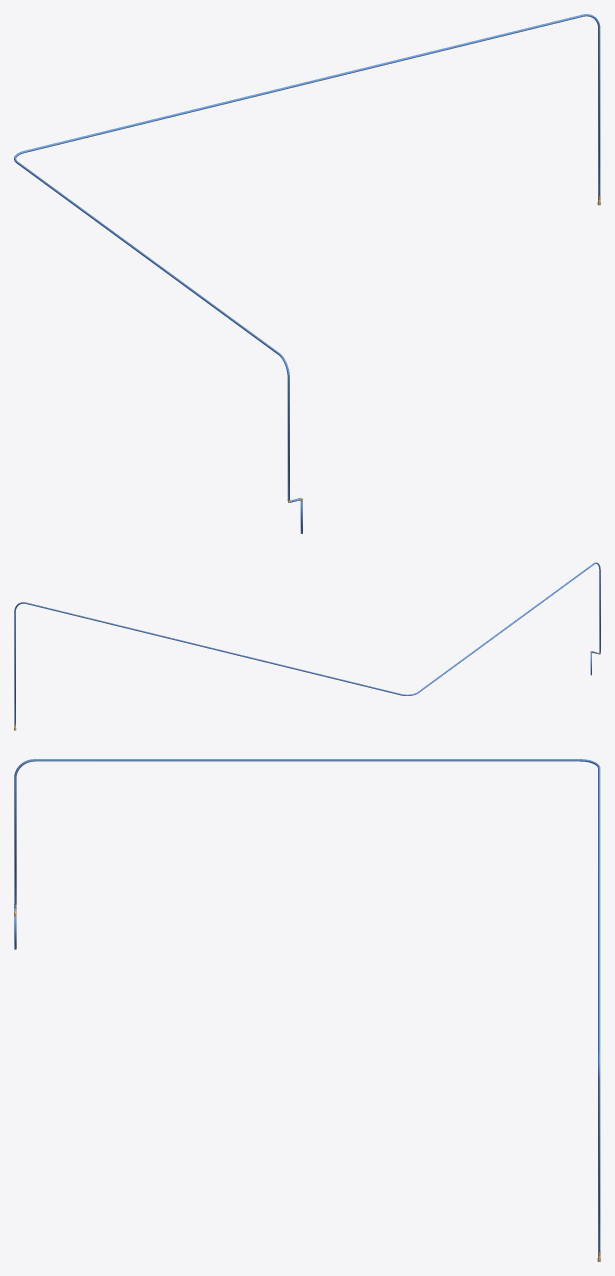
The model's file is pipes_supply__water-well_and_softener-yes_and_flowsmart-no_and_plumbing-pex.glb.
The picture shows the model from 3 angles, top to bottom: view 1: azimuth 30°, elevation 25°; view 2: azimuth 150°, elevation 25°; view 3: azimuth 270°, elevation 25°; orthographic projection. The views are drawn at different scales.
Parts seen in each view (by area): view 1: pipe_supply_well_to_softener__pex; view 2: pipe_supply_well_to_softener__pex; view 3: pipe_supply_well_to_softener__pex.
Part boxes in pixels (box(x1,y1,x2,y2)): pipe_supply_well_to_softener__pex: box(14, 14, 600, 533); pipe_supply_well_to_softener__pex: box(14, 562, 600, 724); pipe_supply_well_to_softener__pex: box(14, 759, 600, 1253).
Size of the model in its own units: 6.45 by 2.02 by 5.31.
